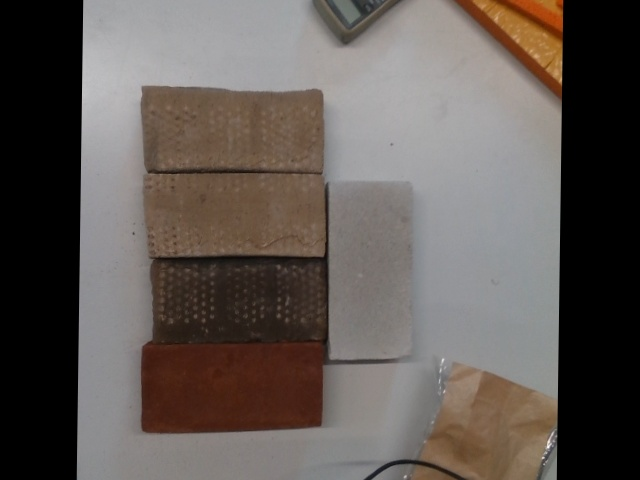brick: (142, 86, 324, 172), (143, 173, 325, 258), (330, 182, 415, 359), (142, 347, 320, 426), (151, 262, 327, 339)
